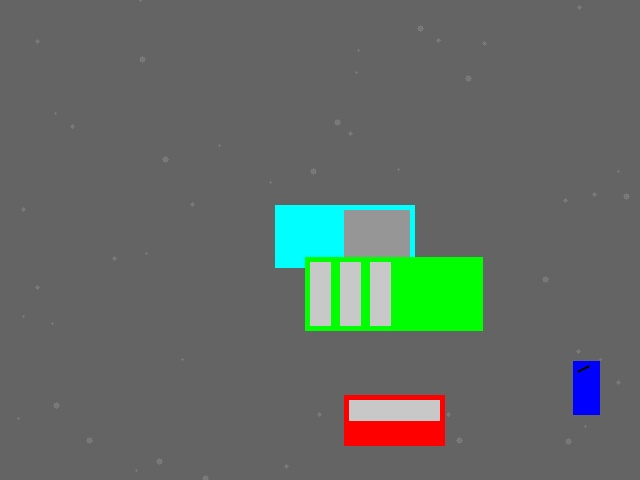bus: (305, 257, 482, 330)
car: (344, 395, 444, 445)
motorcycle: (573, 361, 599, 414)
truck: (275, 205, 414, 267)
